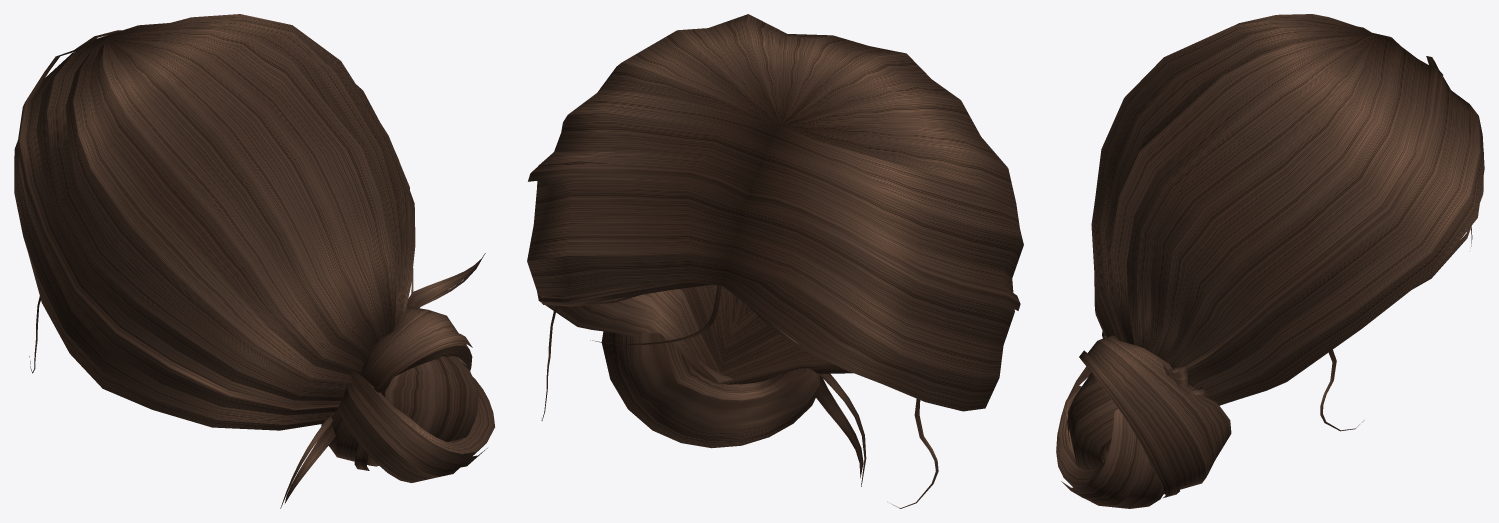
The picture shows the model from 3 angles, left to right: view 1: azimuth 30°, elevation 25°; view 2: azimuth 150°, elevation 25°; view 3: azimuth 270°, elevation 25°; orthographic projection. The views are drawn at different scales.
Parts seen in each view (by area): view 1: geometry_0; view 2: geometry_0; view 3: geometry_0.
Part boxes in pixels (box(x1,y1,x2,y2)): geometry_0: box(14, 14, 494, 508); geometry_0: box(527, 14, 1023, 508); geometry_0: box(1056, 14, 1484, 508).
Size of the model in its own units: 1.52 by 1.61 by 1.53.
1 material, 1 textured.
